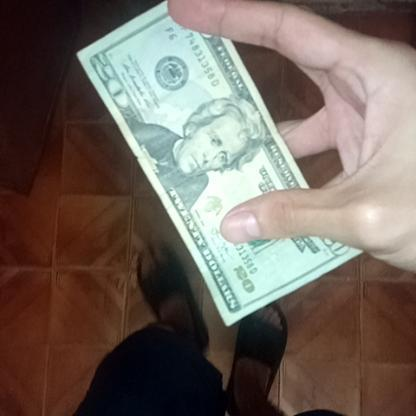twenty-front: (71, 15, 366, 328)
